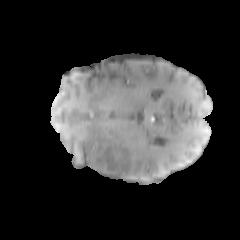glioma: (83, 134, 193, 180)
